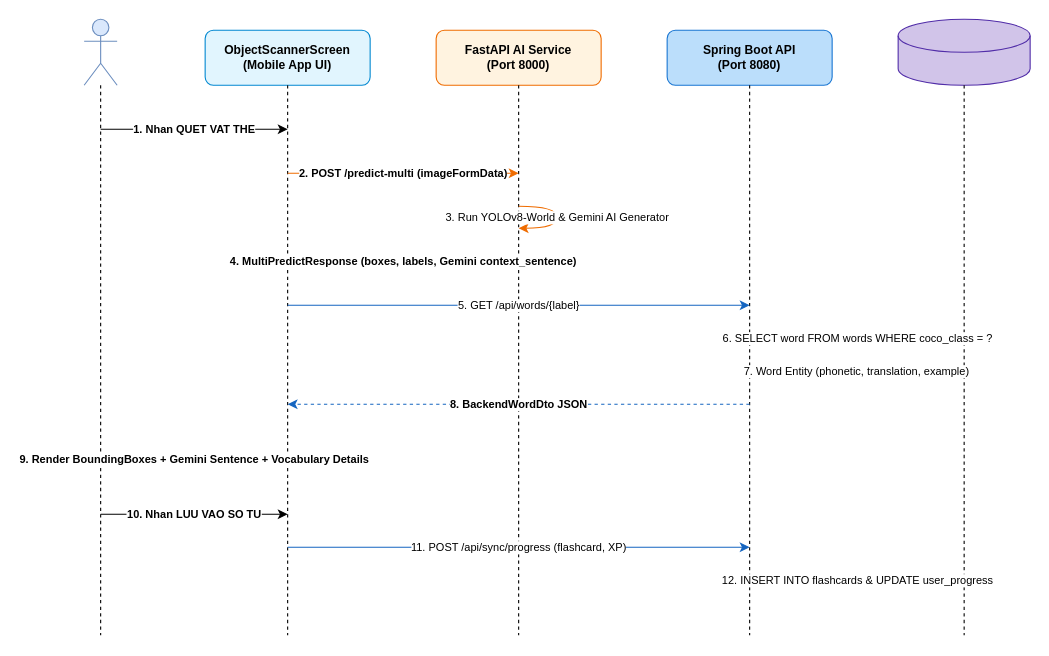
Some shapes in this 1049 by 656 pixel diagram are drawn without their labels. Each missing label, with the box of its shape:
PostgreSQL DB (Central Store): (897, 18, 1030, 85)
User (Nguoi dung): (83, 18, 117, 85)
